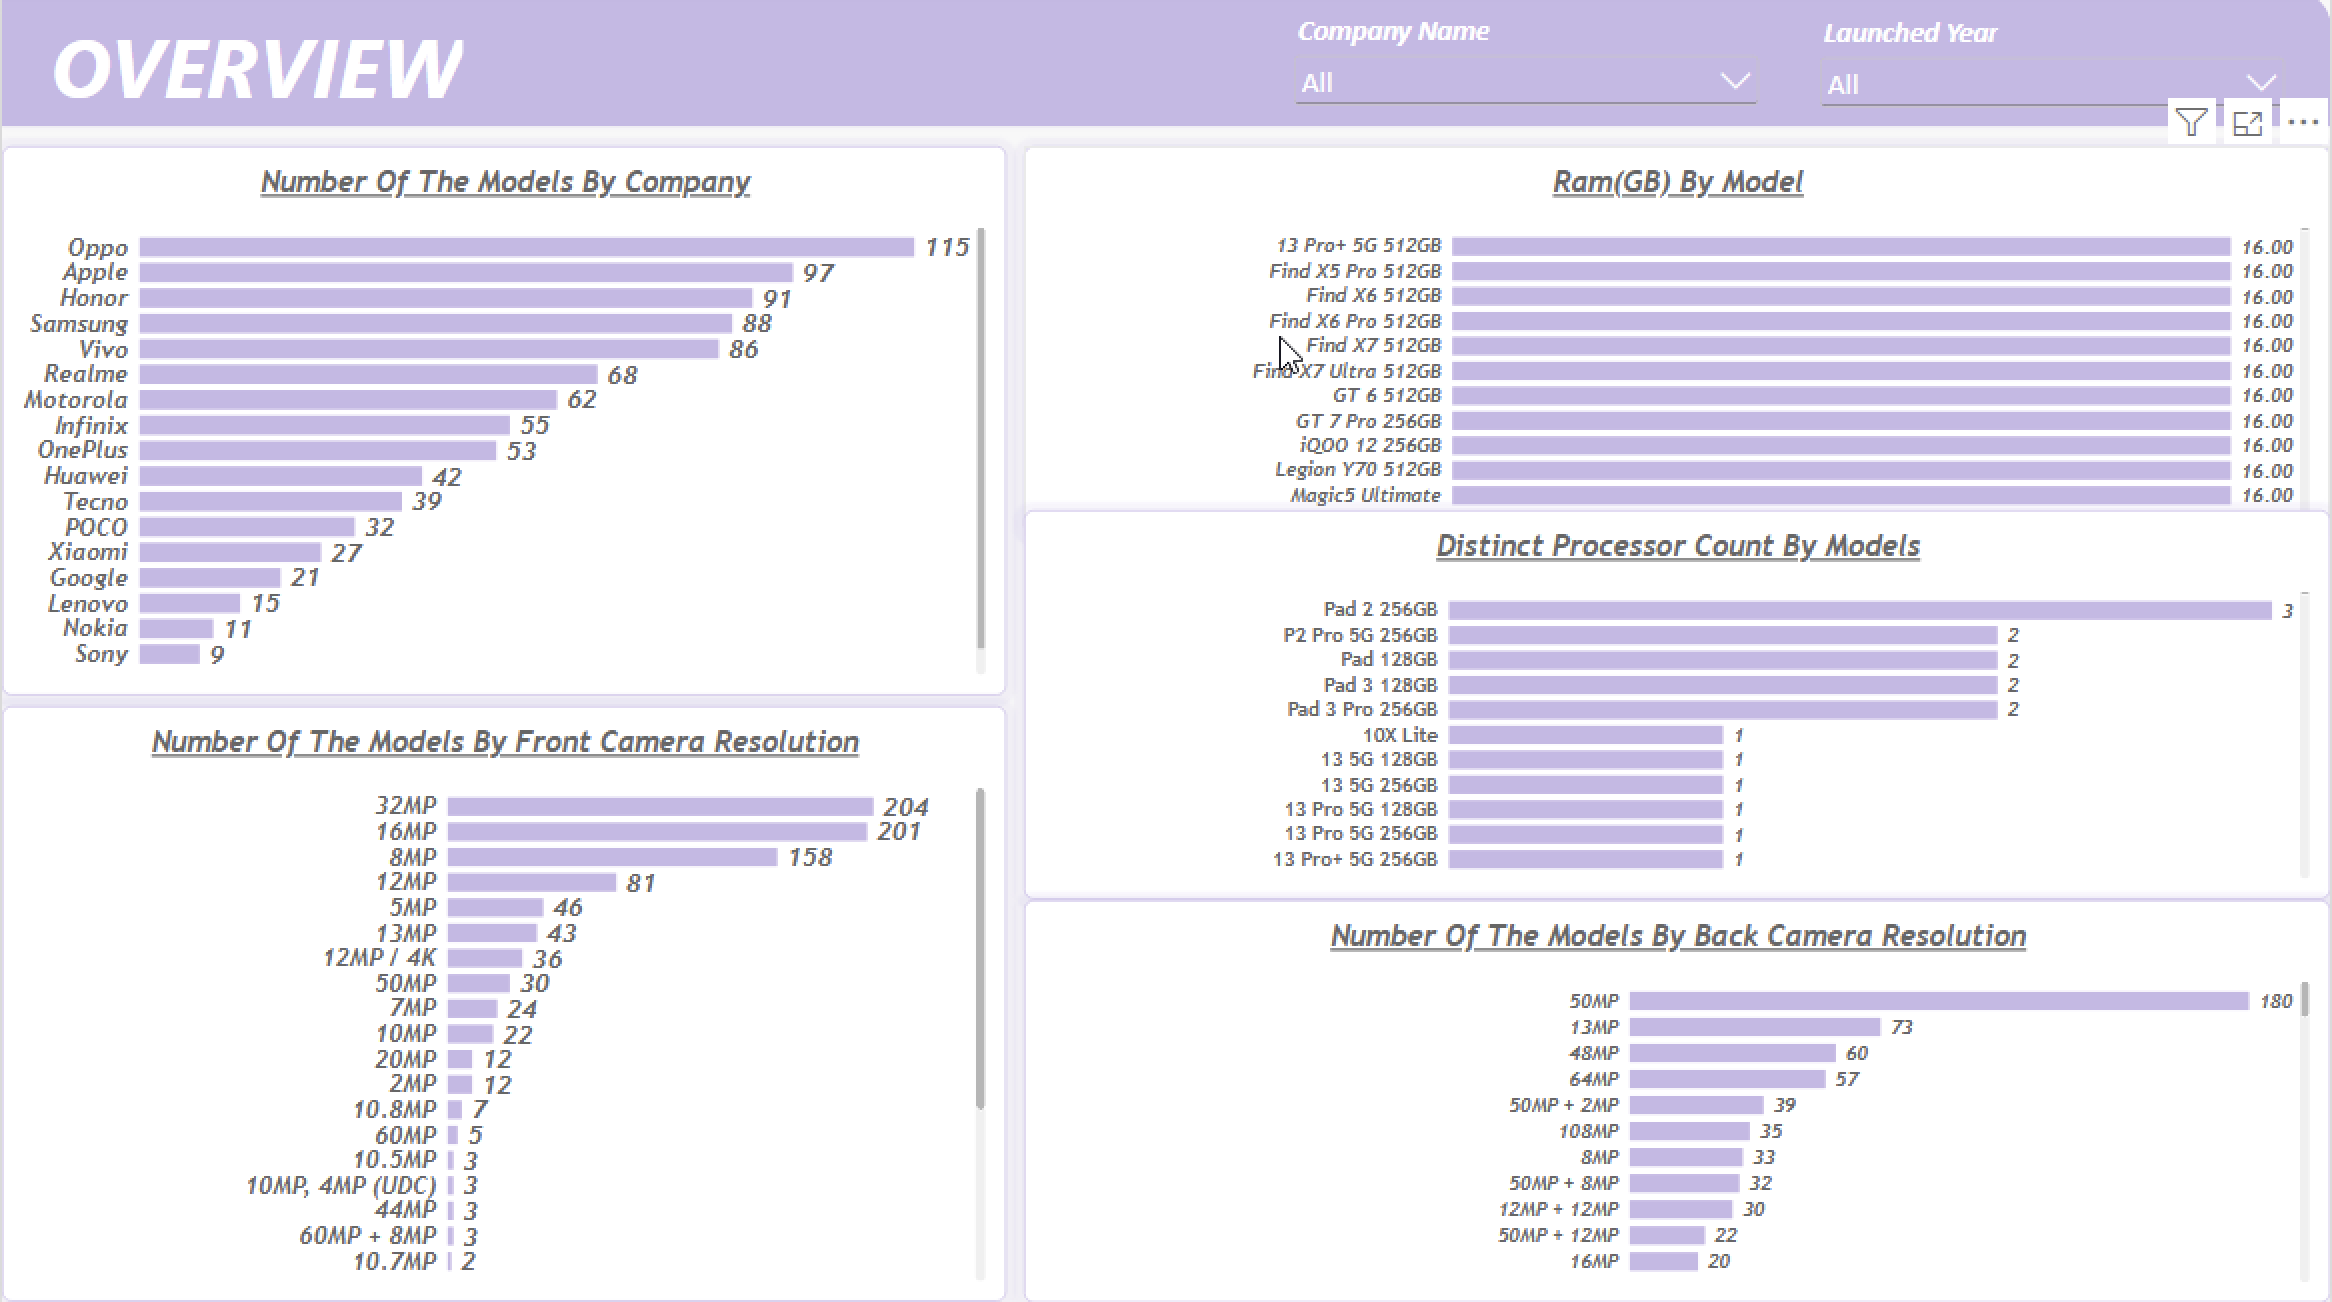

The dashboard page shown, as its layout file describes it:
{"tool":"powerbi","page":{"name":"Overview","canvas":[1920,1080],"ordinal":0},"visuals":[{"type":"shape","box":[0,0,1920,111.4],"z":0},{"type":"slicer","fields":{"Values":["Mobiles Dataset.Company Name"]},"box":[1060.3,16.7,393,146.8],"z":1000},{"type":"slicer","fields":{"Values":["Mobiles Dataset.Launched Year"]},"box":[1493.1,18.1,393,146.8],"z":2000},{"type":"barChart","title":"Number Of The Models By Company","fields":{"Category":["Mobiles Dataset.Company Name"],"Y":["Count(Mobiles Dataset.Model Name)"]},"box":[0,126.3,828.2,453.1],"z":3000},{"type":"barChart","title":"Ram(GB) By Model","fields":{"Category":["Mobiles Dataset.Model Name"],"Y":["Avg(Mobiles Dataset.RAM(GB))"]},"box":[843,126.3,1077,321.2],"z":4000},{"type":"barChart","title":"Number Of The Models By Front Camera Resolution","fields":{"Category":["Mobiles Dataset.Front Camera"],"Y":["Count(Mobiles Dataset.Model Name)"]},"box":[0,588.6,828.2,462.4],"z":5000},{"type":"barChart","title":"Distinct Processor Count By Models","fields":{"Category":["Mobiles Dataset.Model Name"],"Y":["Count(Mobiles Dataset.Processor)"]},"box":[843,427.1,1077,321.2],"z":6000},{"type":"barChart","title":"Number Of The Models By Back Camera Resolution","fields":{"Category":["Mobiles Dataset.Back Camera"],"Y":["Count(Mobiles Dataset.Model Name)"]},"box":[843,748.3,1077,332.4],"z":7000}]}

Visuals, with their boxes in screenshot pixels (x1, y1, x2, y2), scaled from the page's 1920x1080 canvas onto the 2332x1302 screenshot:
shape: {"left": 0, "top": 0, "right": 2331, "bottom": 134}
slicer - Mobiles Dataset.Company Name: {"left": 1288, "top": 20, "right": 1765, "bottom": 197}
slicer - Mobiles Dataset.Launched Year: {"left": 1813, "top": 22, "right": 2291, "bottom": 199}
"Number Of The Models By Company" barChart: {"left": 0, "top": 152, "right": 1006, "bottom": 698}
"Ram(GB) By Model" barChart: {"left": 1024, "top": 152, "right": 2331, "bottom": 539}
"Number Of The Models By Front Camera Resolution" barChart: {"left": 0, "top": 710, "right": 1006, "bottom": 1267}
"Distinct Processor Count By Models" barChart: {"left": 1024, "top": 515, "right": 2331, "bottom": 902}
"Number Of The Models By Back Camera Resolution" barChart: {"left": 1024, "top": 902, "right": 2331, "bottom": 1301}
